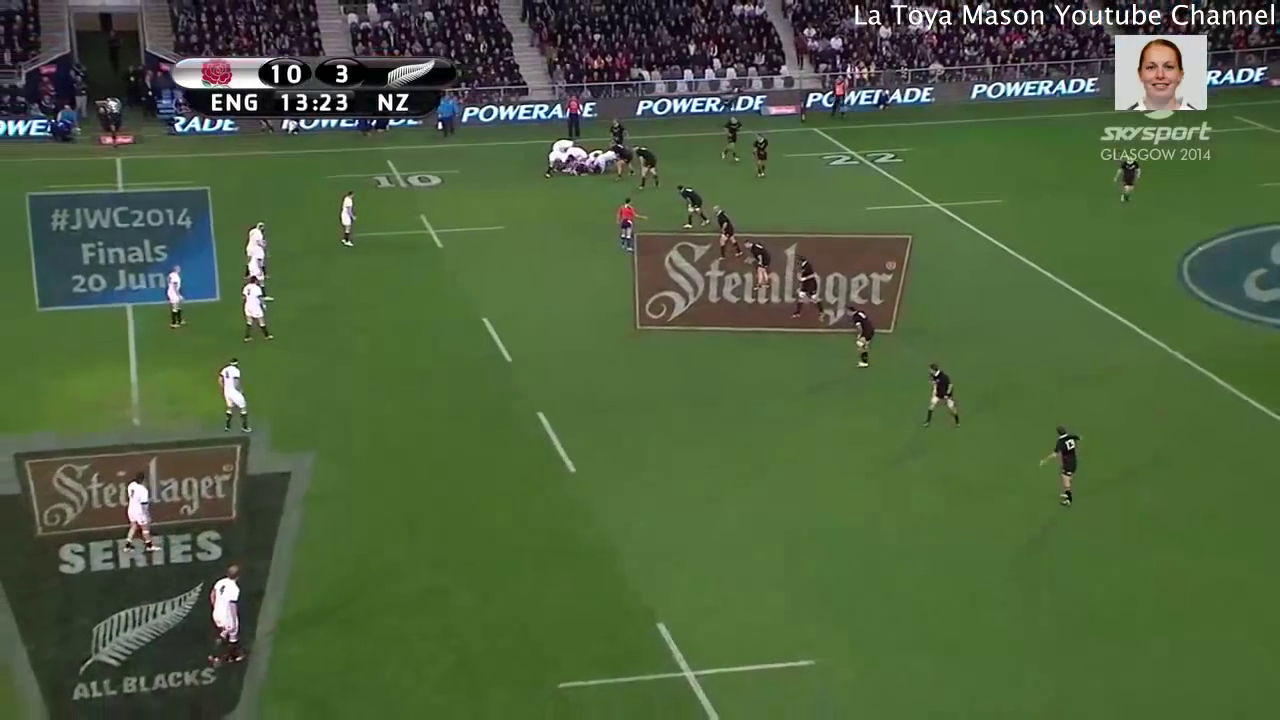10_metre: (552, 613, 828, 720), (338, 207, 515, 252), (320, 154, 466, 195)
player: (202, 552, 259, 671), (1037, 416, 1089, 514), (211, 355, 263, 444), (117, 465, 167, 556), (232, 267, 280, 358), (917, 356, 965, 439), (789, 242, 833, 326), (156, 258, 192, 335), (845, 300, 881, 371), (613, 193, 650, 256), (1110, 145, 1143, 210), (241, 232, 281, 285), (334, 184, 363, 256), (742, 235, 776, 295), (711, 202, 744, 262), (675, 180, 714, 230), (241, 208, 275, 261), (716, 111, 742, 171), (634, 144, 662, 196), (748, 131, 775, 179), (544, 148, 573, 177), (613, 144, 637, 179), (592, 150, 621, 176), (552, 136, 578, 152), (609, 118, 623, 145)
ruck: (539, 140, 630, 181)
